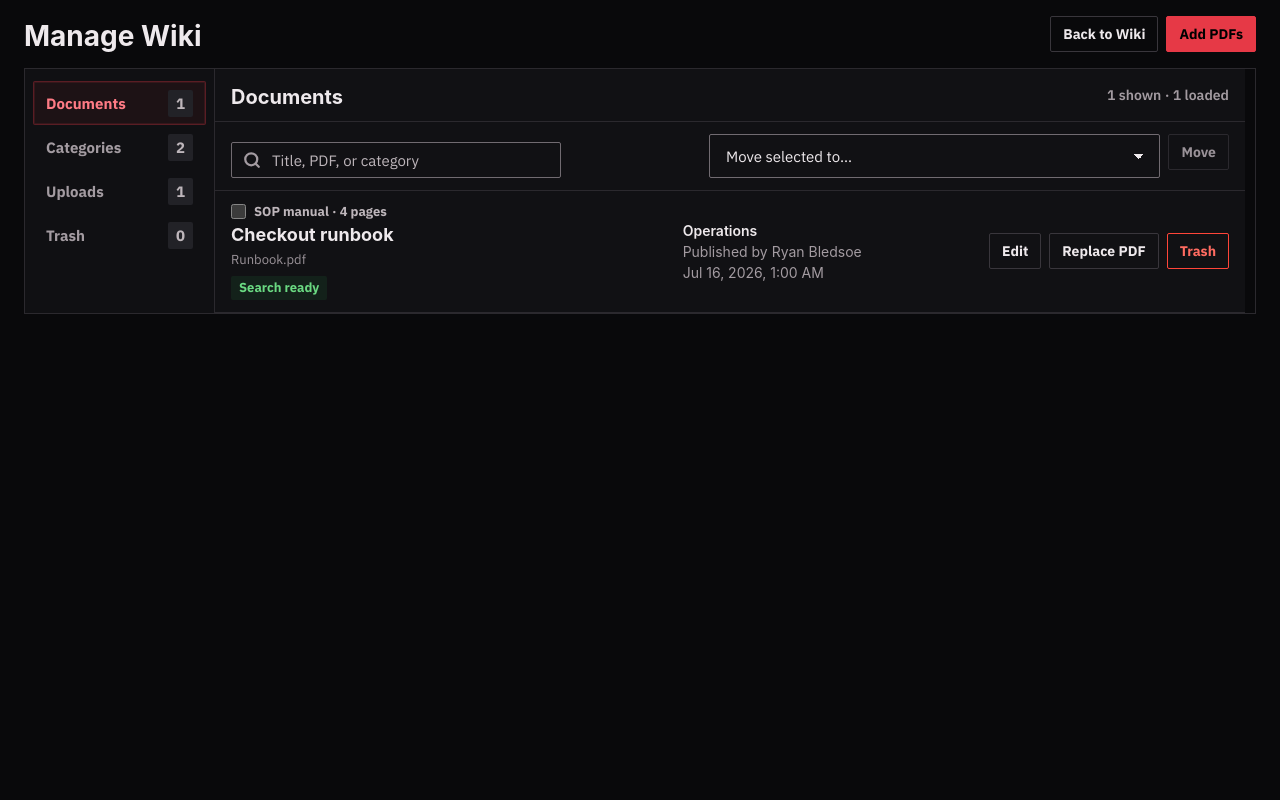
Test: KnowledgeManagementWorkspace › shows replacement transfer state until the upload is ready for action
The image size is (1280, 800).
Click the button "Uploads 1" at (120, 191), box left=33, top=169, right=206, bottom=213
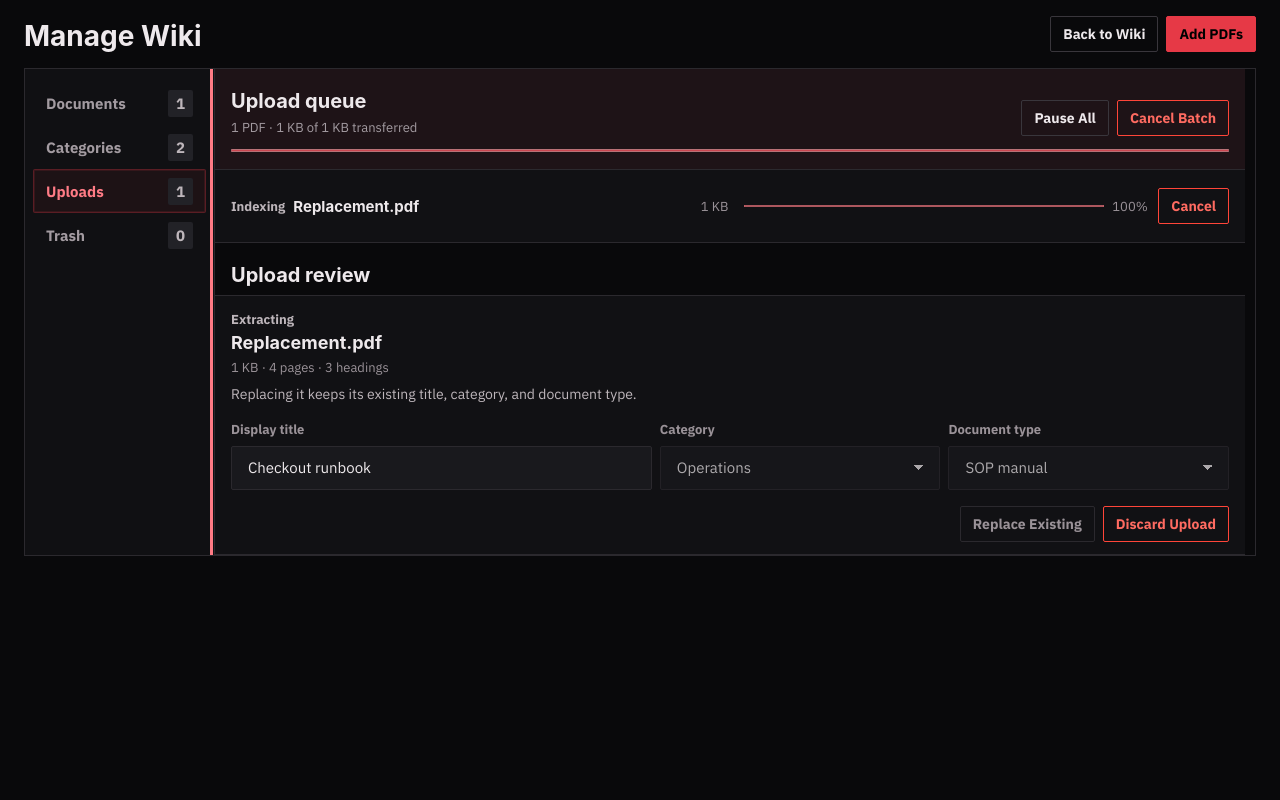
Now the text "Replacement.pdf" is shown, box left=293, top=197, right=419, bottom=216
Now the element "Replacement.pdf" is shown, box left=215, top=296, right=1245, bottom=555
Now the button "Replace Existing" is disabled, box left=960, top=506, right=1095, bottom=542
